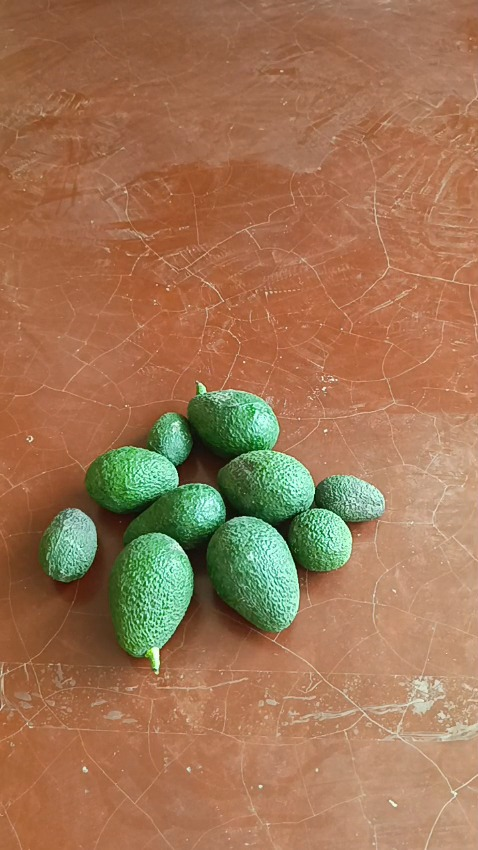Primera: (107, 531, 195, 657), (206, 515, 300, 631), (217, 450, 315, 524), (188, 390, 279, 457)
Segunda: (124, 481, 227, 550), (84, 446, 179, 513)
Tercera: (37, 507, 99, 582), (286, 508, 353, 572), (312, 473, 385, 523), (146, 411, 194, 467)
